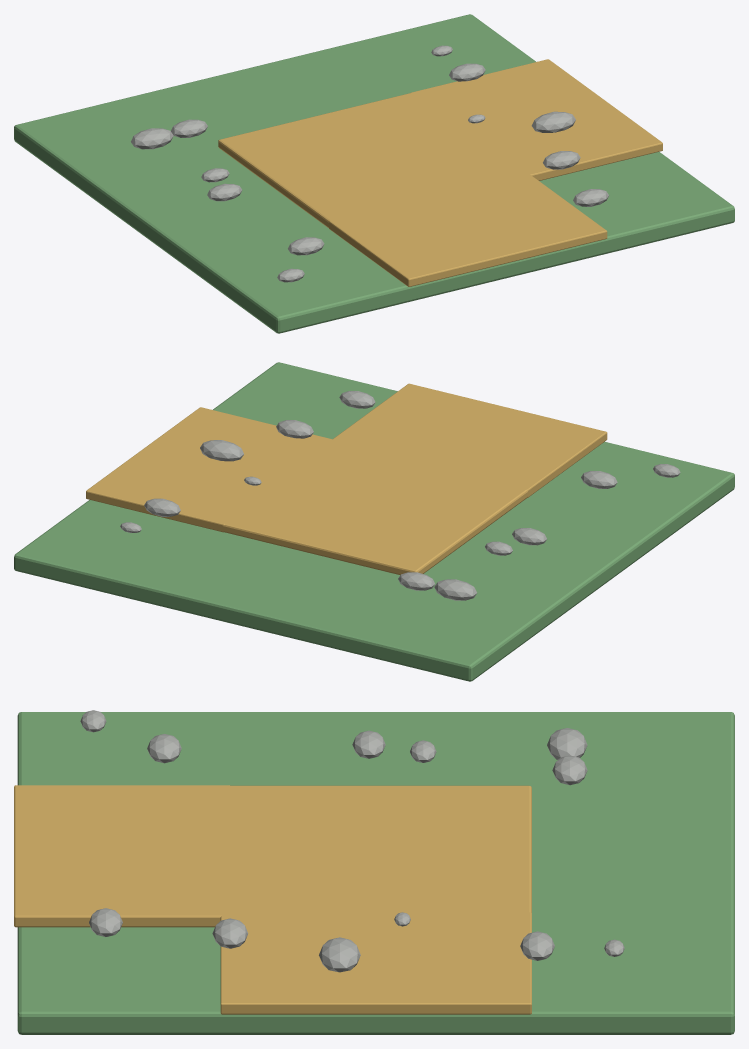
The model's file is ROAD_DIRT_1x1_CORNER.glb.
3 views of the same model, one above another, from view 1: azimuth 30°, elevation 25°; view 2: azimuth 150°, elevation 25°; view 3: azimuth 270°, elevation 25° (orthographic). The views are drawn at different scales.
Parts seen in each view (by area): view 1: ROAD_DIRT_1x1_CORNER_Visual; view 2: ROAD_DIRT_1x1_CORNER_Visual; view 3: ROAD_DIRT_1x1_CORNER_Visual.
Part boxes in pixels (x1,y1,x2,y2): ROAD_DIRT_1x1_CORNER_Visual: (14, 14, 734, 333); ROAD_DIRT_1x1_CORNER_Visual: (14, 362, 734, 681); ROAD_DIRT_1x1_CORNER_Visual: (14, 710, 734, 1034).
Size of what is drawn, in the model's own units: 1.99 by 0.1554 by 1.99.
